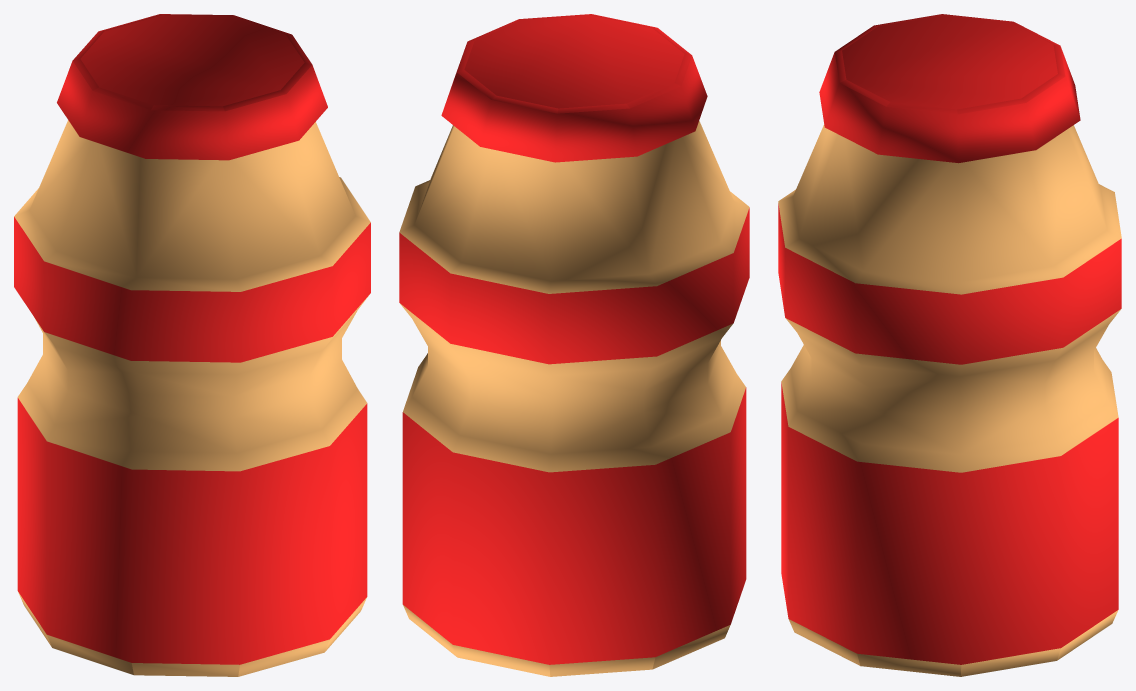
The model's file is Mysterious Item.fbx.
The picture shows the model from 3 angles, left to right: view 1: azimuth 30°, elevation 25°; view 2: azimuth 150°, elevation 25°; view 3: azimuth 270°, elevation 25°; orthographic projection.
Parts seen in each view (by area): view 1: Node 0; view 2: Node 0; view 3: Node 0.
Part boxes in pixels (bbox=[...]): Node 0: bbox=[14, 14, 370, 676]; Node 0: bbox=[399, 14, 749, 676]; Node 0: bbox=[778, 14, 1121, 676].
Size of the model in its own units: 0.0466 by 0.0814 by 0.048.
